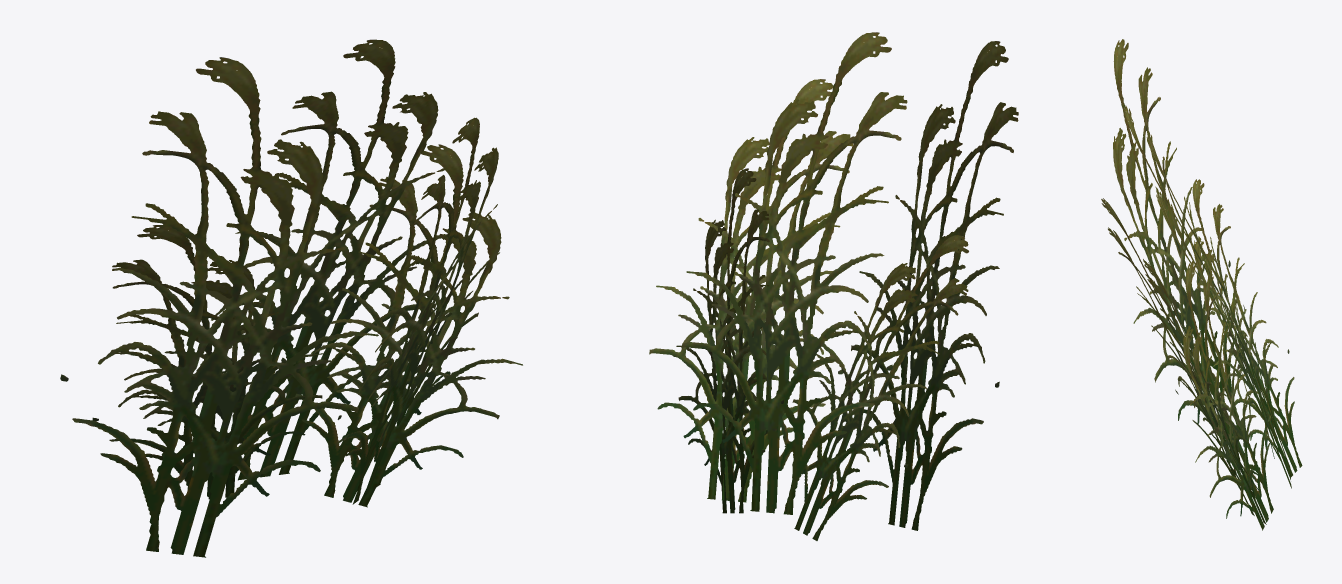
3 renders of one model, left to right at view 1: azimuth 30°, elevation 25°; view 2: azimuth 150°, elevation 25°; view 3: azimuth 270°, elevation 25°, orthographic. The views are drawn at different scales.
Parts seen in each view (by area): view 1: pasted__Combined_Mesh_root_scene__Mesh_polySurface4495; view 2: pasted__Combined_Mesh_root_scene__Mesh_polySurface4495; view 3: pasted__Combined_Mesh_root_scene__Mesh_polySurface4495.
Part boxes in pixels (x1,y1,x2,y2): pasted__Combined_Mesh_root_scene__Mesh_polySurface4495: (60,39,522,557); pasted__Combined_Mesh_root_scene__Mesh_polySurface4495: (649,32,1018,540); pasted__Combined_Mesh_root_scene__Mesh_polySurface4495: (1101,39,1302,530).
Bounding box in the file's own units: 17.63 × 21.03 × 11.8.
